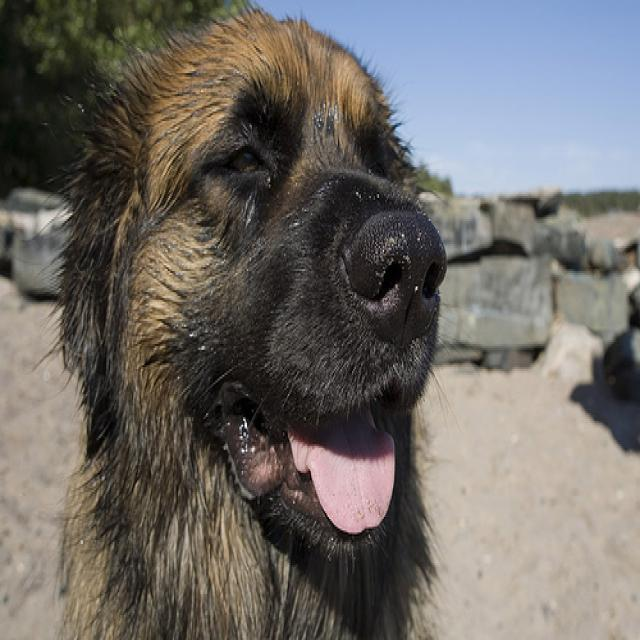dog-leonberger: (40, 2, 457, 636)
